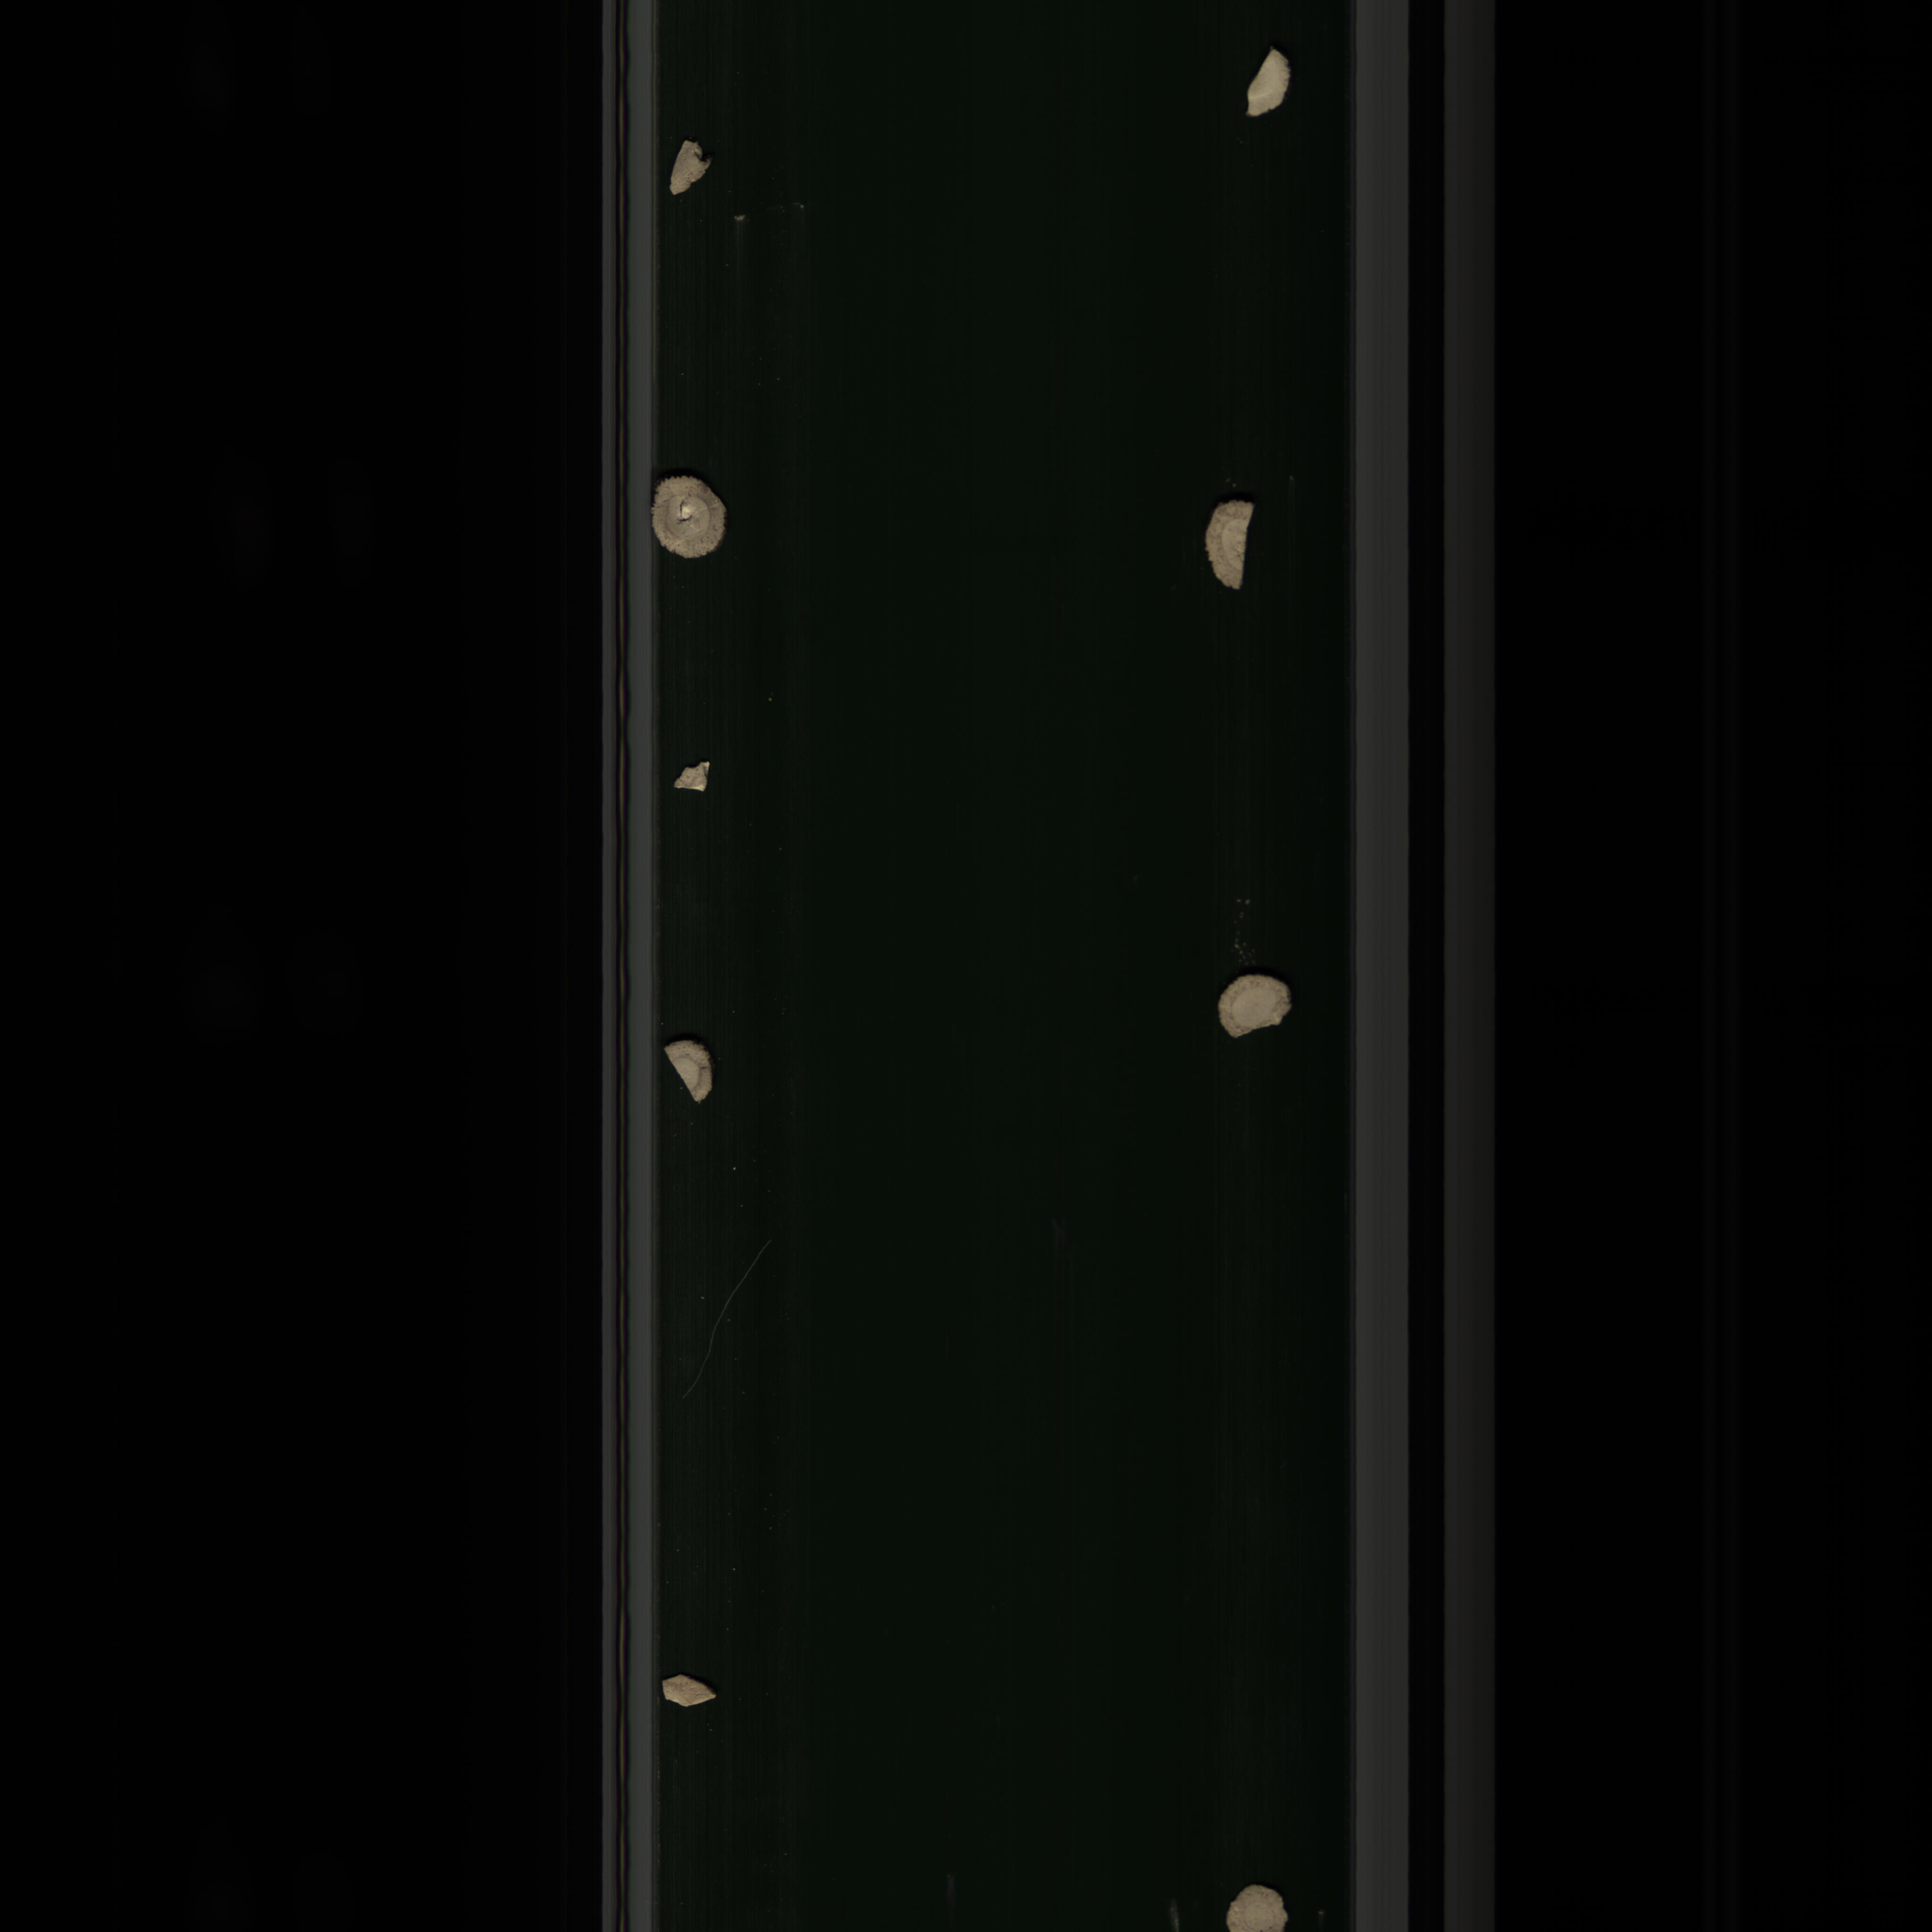bark: (656, 1670, 722, 1714), (660, 757, 720, 801)
debris: (1200, 970, 1297, 1051), (1201, 495, 1263, 603), (1242, 34, 1299, 140), (648, 1037, 722, 1116), (663, 127, 717, 203)
